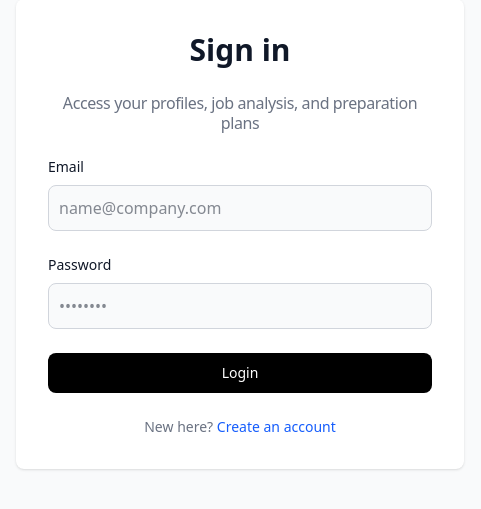
Test case: shows error on invalid credentials
The image size is (481, 509).
Type "user@example.com" into the field labelled "Email".
click(240, 208); type("user@example.com")  # box [48,185,432,231]
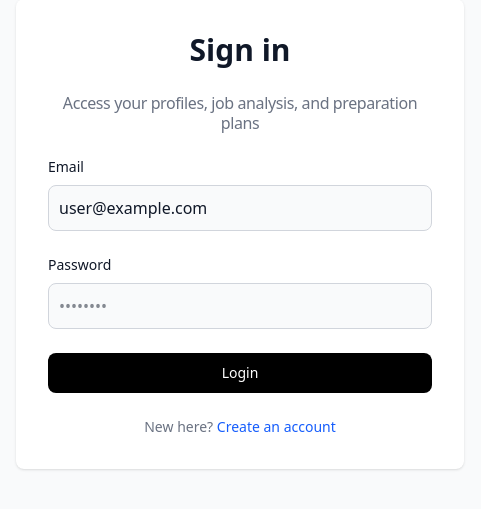
Type "wrong" into the password field labelled "Password".
click(240, 306); type("wrong")  # box [48,283,432,329]
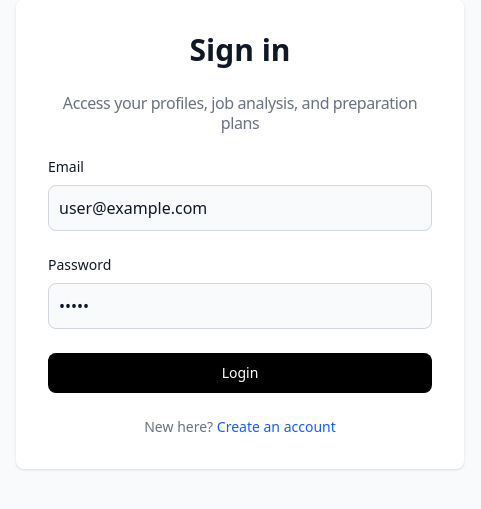
Click the button "Login".
click(240, 373)  # box [48,353,432,393]
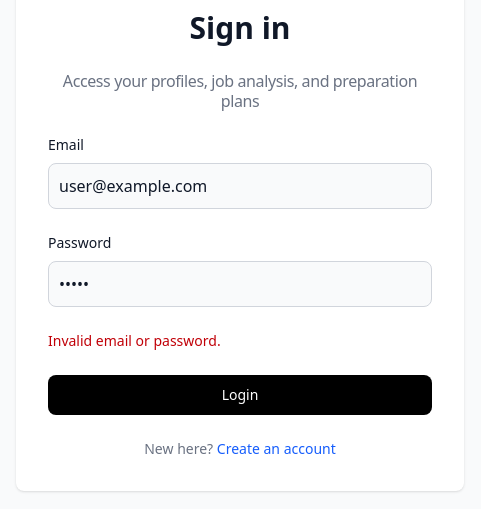
Now the text "Invalid email or password." is shown, box [48,331,221,350]
